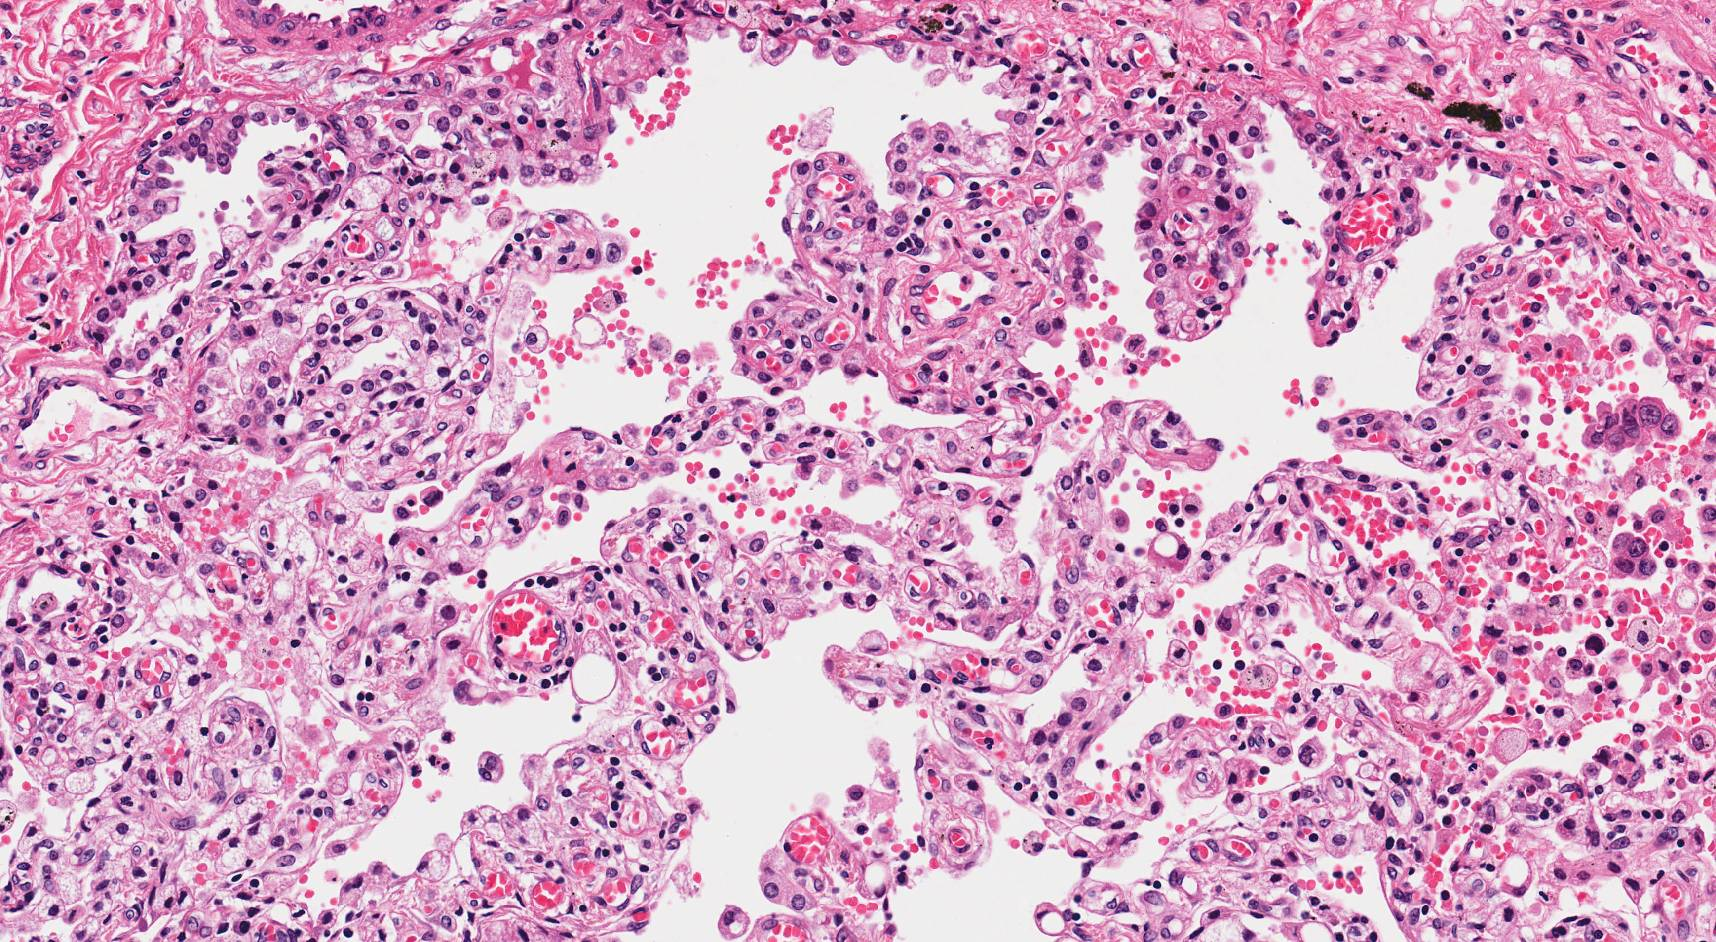stas: (1580, 396, 1685, 456), (1609, 532, 1658, 579)
